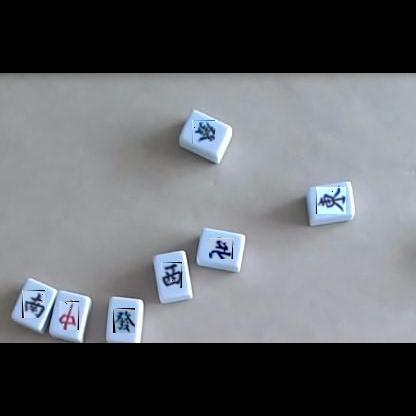1z: (316, 187, 346, 214)
2z: (22, 290, 45, 318)
3z: (161, 262, 182, 288)
4z: (209, 238, 233, 259)
6z: (192, 120, 215, 144), (113, 308, 135, 333)
7z: (59, 301, 79, 330)
